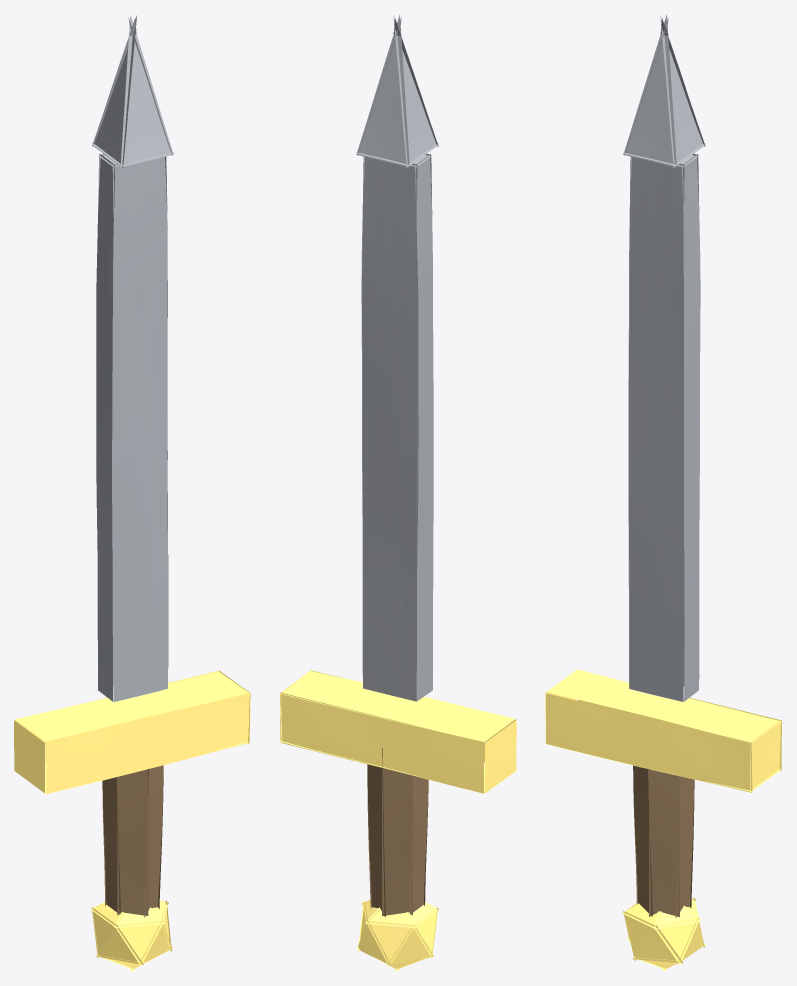
The model's file is sword.glb.
3 views of the same model, side by side, from view 1: azimuth 30°, elevation 25°; view 2: azimuth 150°, elevation 25°; view 3: azimuth 330°, elevation 25° (orthographic).
Visible parts, largest first — view 1: SwordGrip; view 2: SwordGrip; view 3: SwordGrip.
Part boxes in pixels (x1,y1,x2,y2): SwordGrip: [14, 14, 250, 971]; SwordGrip: [280, 14, 516, 971]; SwordGrip: [545, 14, 781, 971].
Size of the model in its own units: 0.3818 by 1.69 by 0.131.
